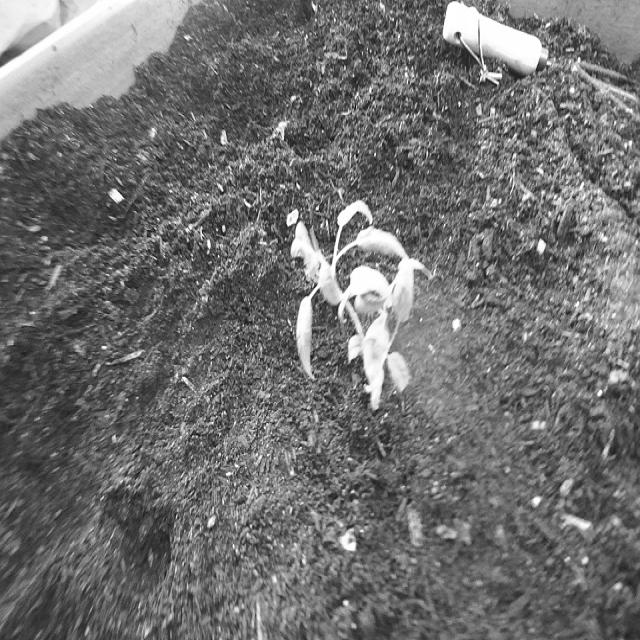Healthy: (288, 195, 435, 414)
